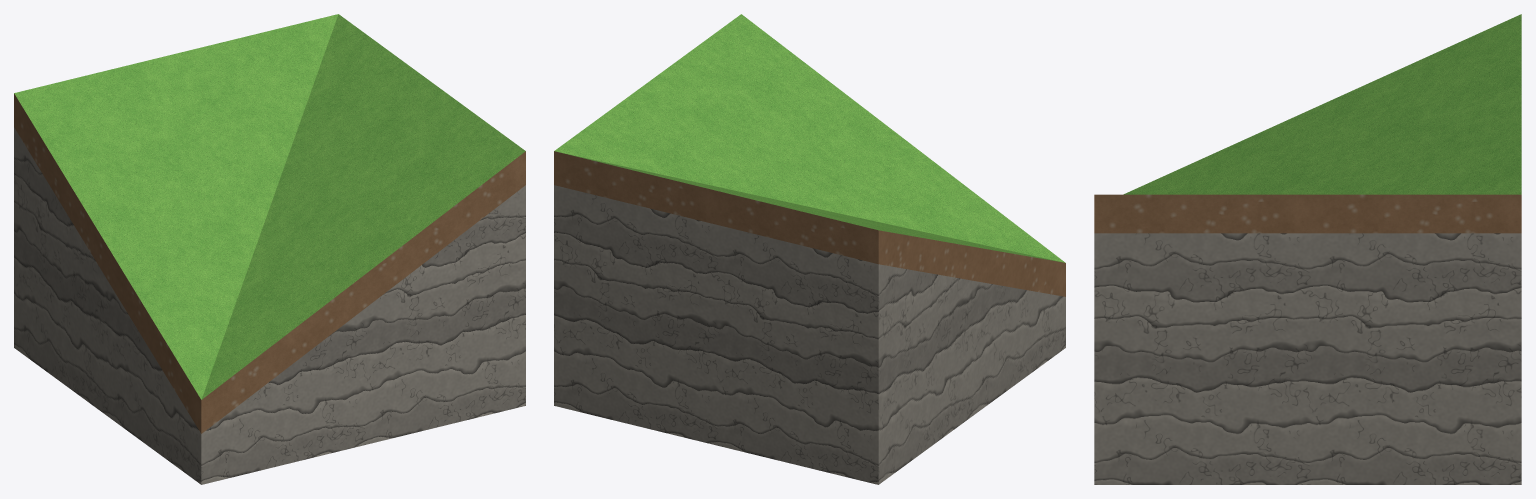
The model's file is Slope_LtoU_InnerCorner.fbx.
3 views of the same model, side by side, from view 1: azimuth 30°, elevation 25°; view 2: azimuth 150°, elevation 25°; view 3: azimuth 270°, elevation 25° (orthographic). The views are drawn at different scales.
Visible parts, largest first — view 1: Slope_LtoU_InnerCorner; view 2: Slope_LtoU_InnerCorner; view 3: Slope_LtoU_InnerCorner.
Part boxes in pixels (<box>): Slope_LtoU_InnerCorner: <box>14,14,525,484</box>; Slope_LtoU_InnerCorner: <box>554,14,1065,484</box>; Slope_LtoU_InnerCorner: <box>1094,14,1521,484</box>.
Bounding box in the file's own units: 3 × 2.25 × 3.
Materials: 3 (3 with a texture image).
